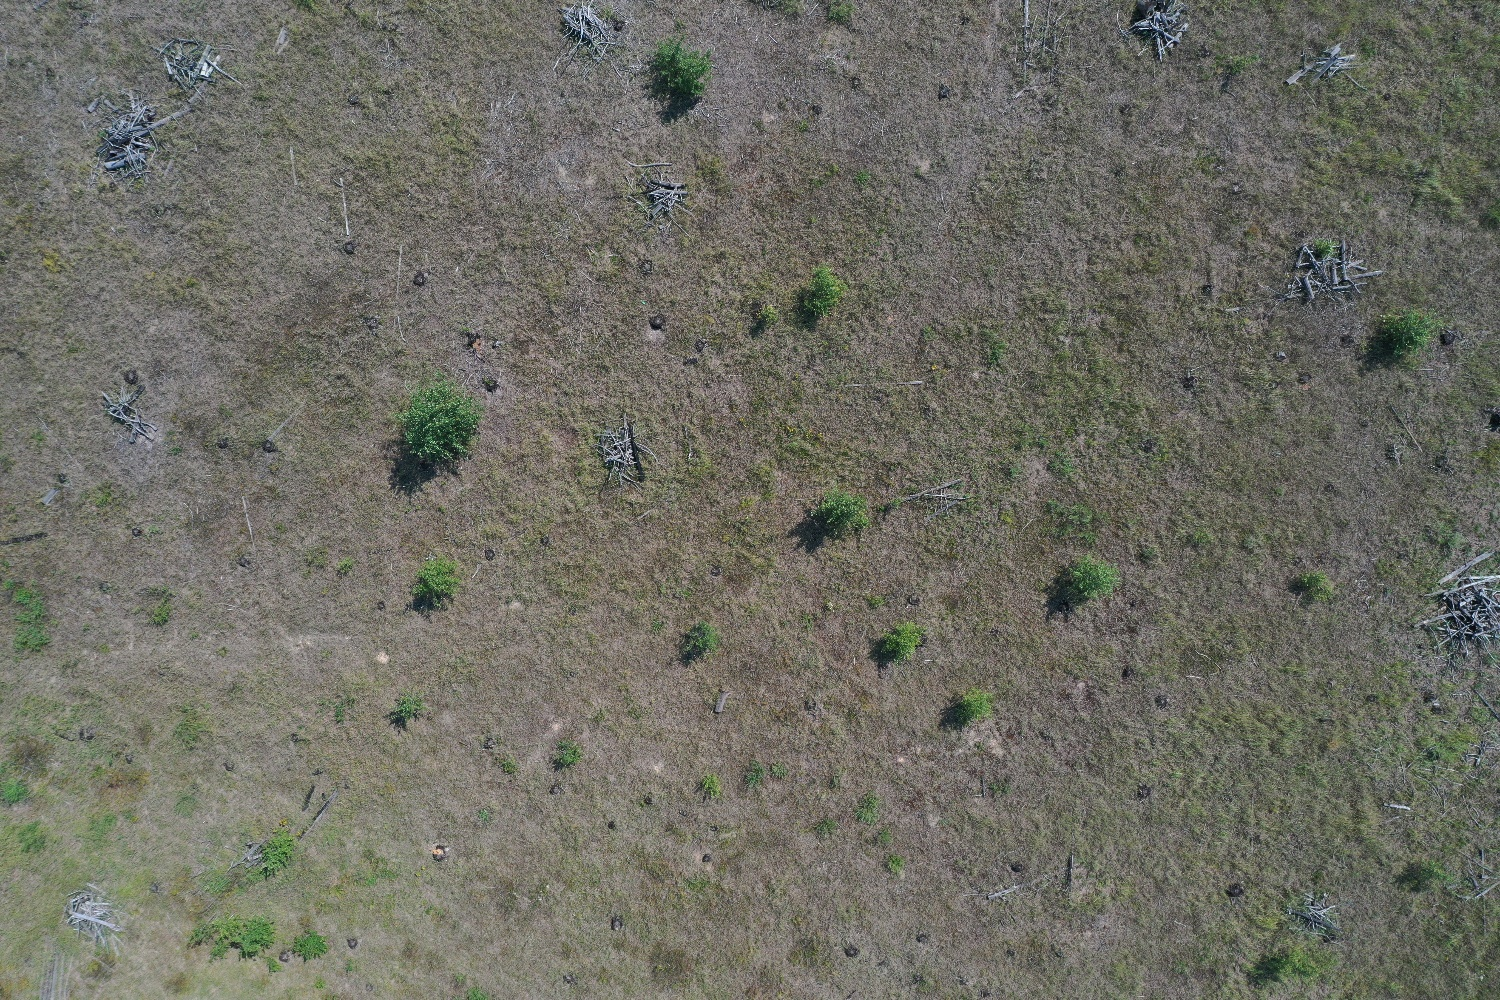branches: (1410, 551, 1500, 662), (95, 90, 190, 185), (1282, 235, 1387, 304), (158, 39, 242, 104), (593, 413, 658, 491), (60, 890, 126, 954), (1126, 1, 1193, 62), (627, 175, 698, 224), (558, 1, 614, 62), (100, 385, 158, 443)
